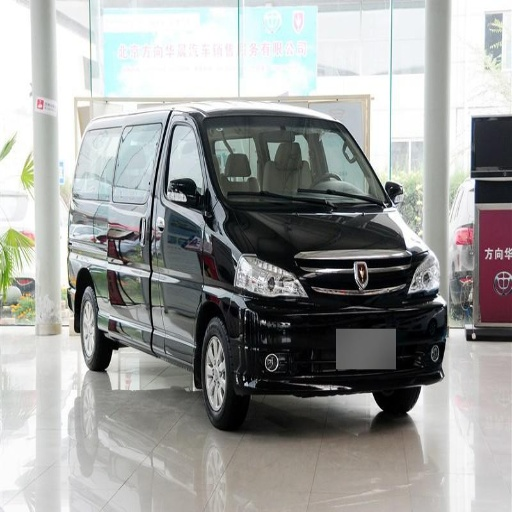front_bumper: (231, 252, 448, 394)
front_right_door: (154, 116, 207, 309)
front_right_light: (235, 255, 303, 298)
hood: (243, 196, 423, 265)
